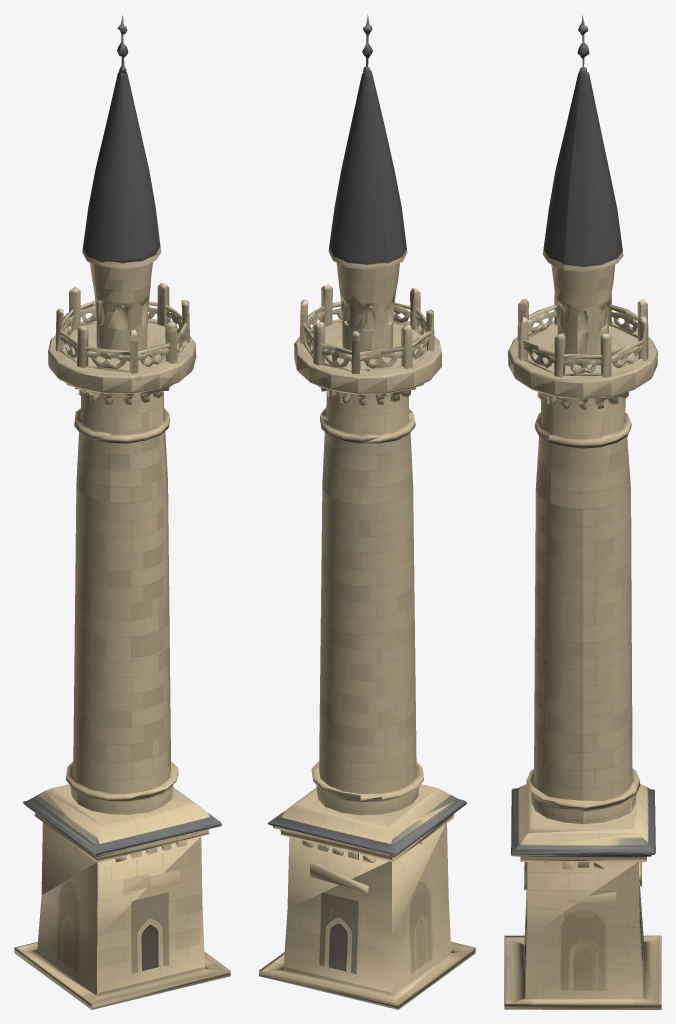
The model's file is minaret.glb.
3 renders of one model, left to right at view 1: azimuth 30°, elevation 25°; view 2: azimuth 150°, elevation 25°; view 3: azimuth 270°, elevation 25°, orthographic.
Parts seen in each view (by area): view 1: mesh_node; view 2: mesh_node; view 3: mesh_node.
Part boxes in pixels (x1,y1,x2,y2): mesh_node: (14,15,230,1009); mesh_node: (259,14,475,1009); mesh_node: (504,15,661,1009).
Size of the model in its own units: 2.76 by 18 by 2.67.
Materials: 1 (1 with a texture image).
